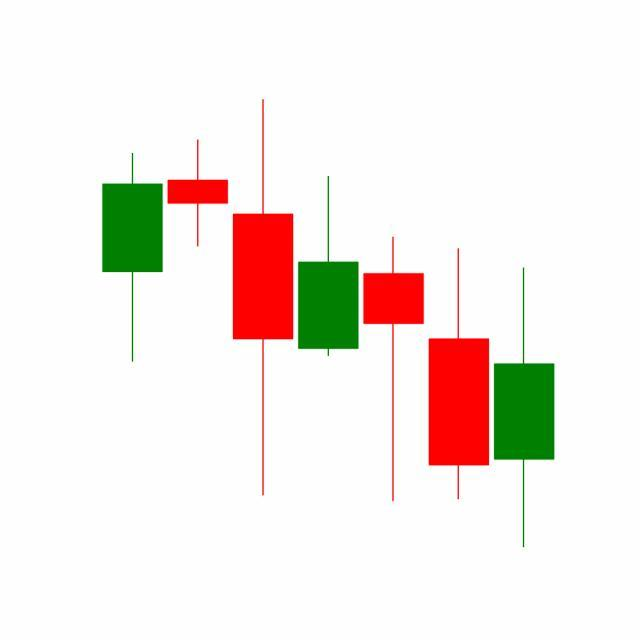Three Inside Up-Down: (295, 173, 492, 506)
